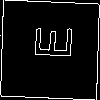E: (25, 24, 73, 60)
